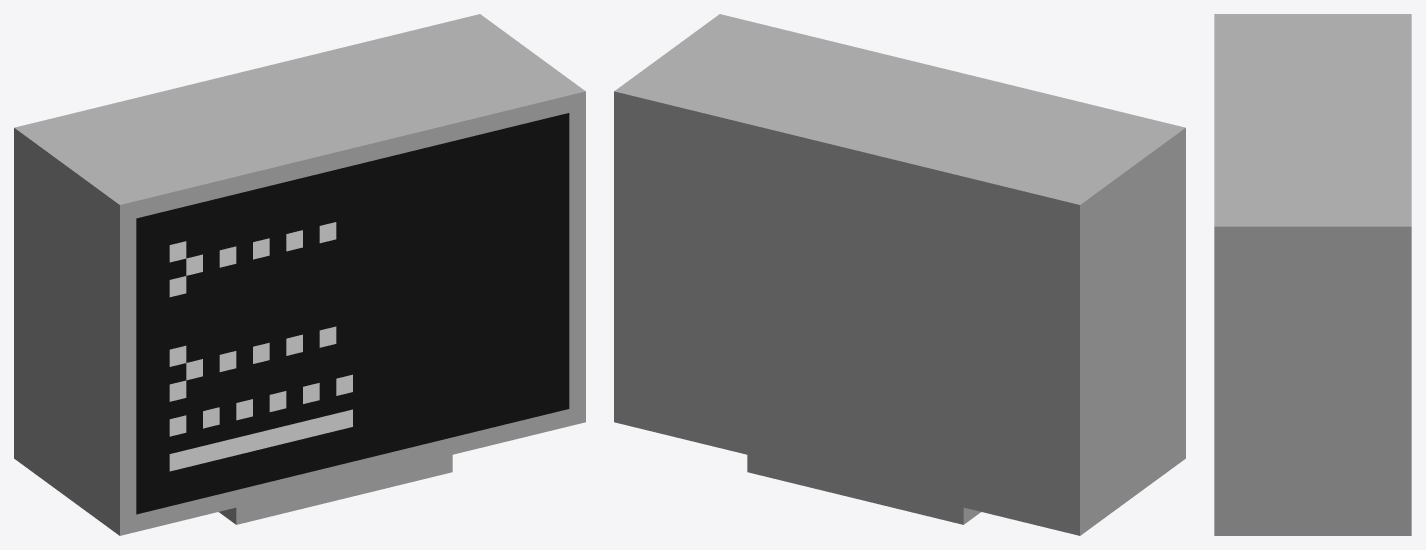
File: MissTerminal.FBX
3 renders of one model, left to right at view 1: azimuth 30°, elevation 25°; view 2: azimuth 150°, elevation 25°; view 3: azimuth 270°, elevation 25°, orthographic. The views are drawn at different scales.
Parts seen in each view (by area): view 1: MissTerminal; view 2: MissTerminal; view 3: MissTerminal.
Part boxes in pixels (x1,y1,x2,y2): MissTerminal: (14,14,585,535); MissTerminal: (614,14,1185,535); MissTerminal: (1214,14,1411,535).
Size of the model in its own units: 2.8 by 2 by 1.1.
1 material, 1 textured.
